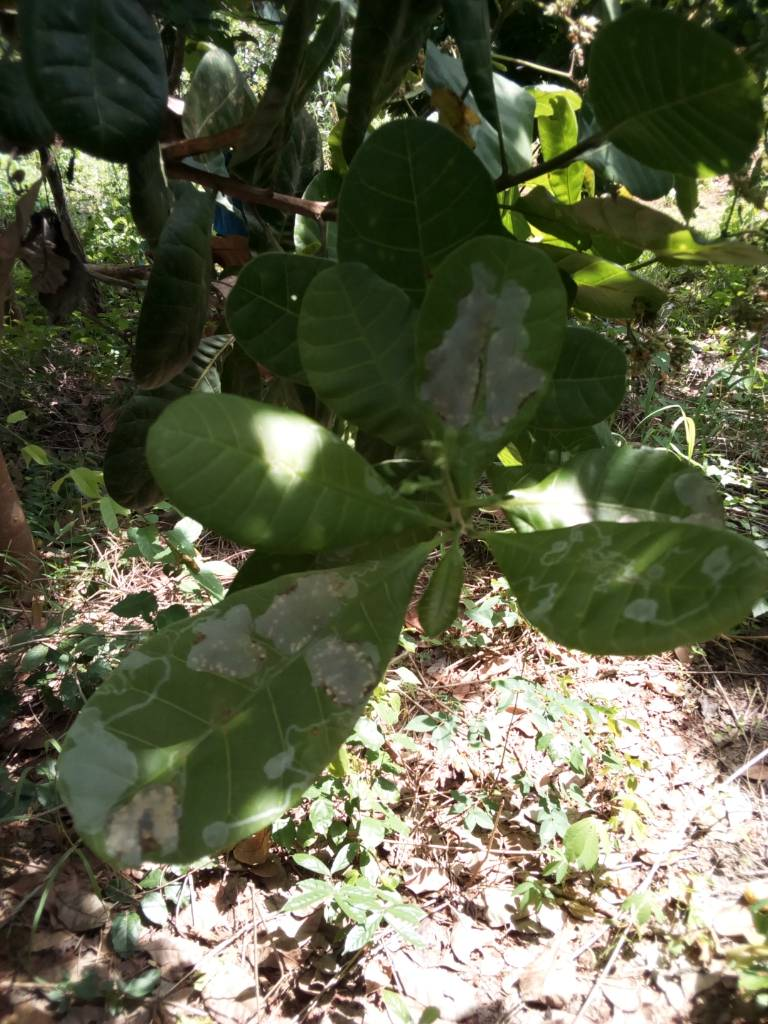Virose: (68, 561, 408, 867), (483, 524, 768, 655), (429, 253, 566, 483)
